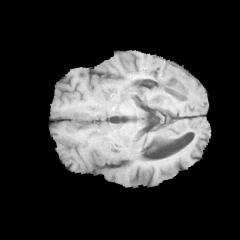glioma: (139, 59, 199, 101)
